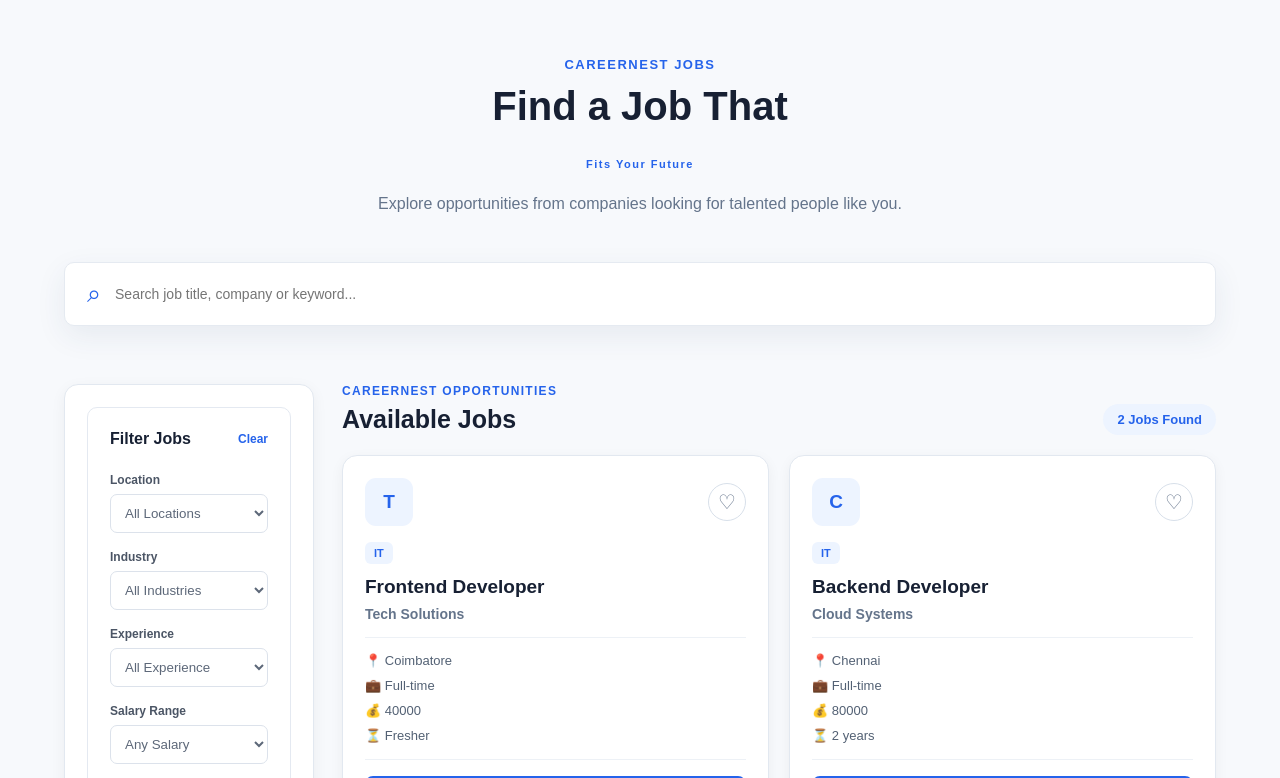
Scenario: Jobs page › shows an error when saving a job fails
The width and height of the screenshot is (1280, 778).
Step 1. Click the button named "Save job" → [727, 502], box [708,483,746,521]
(page scrolled)
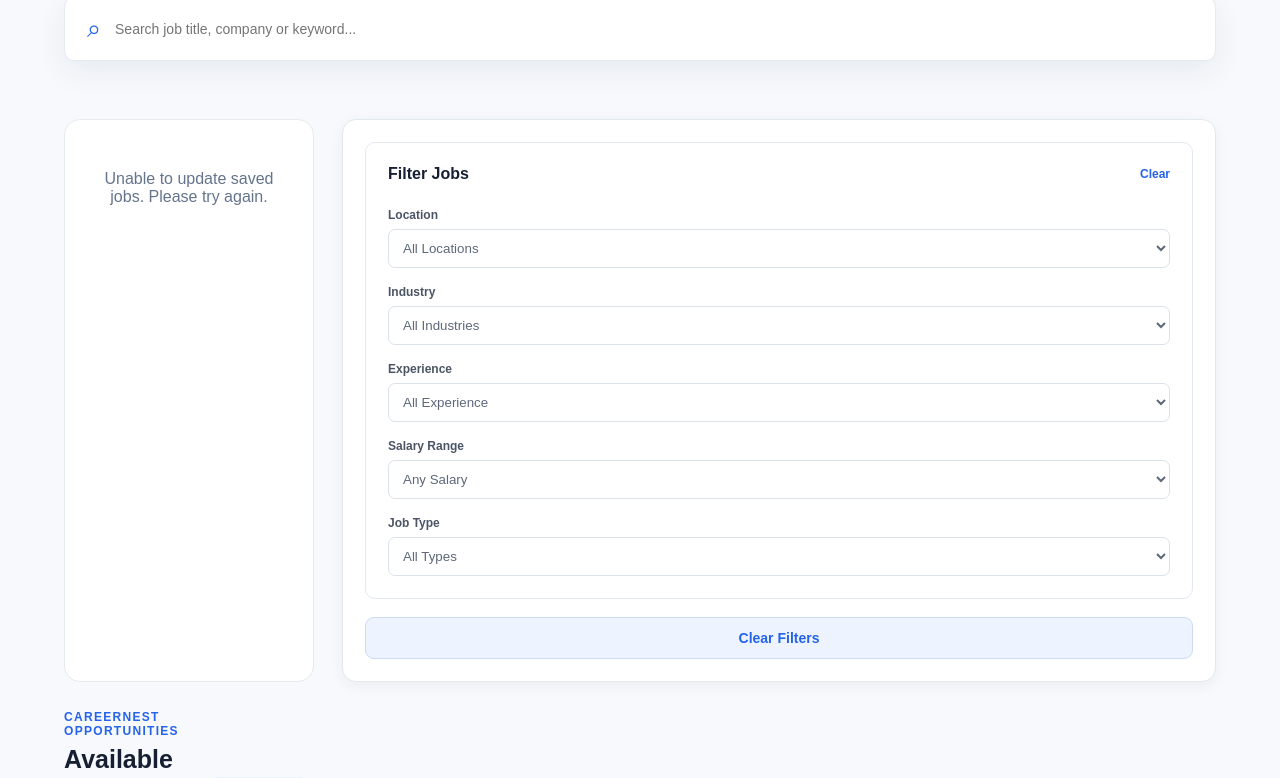
Check: the message reads "Unable to update saved jobs. Please try again.", box [104,170,274,205]
